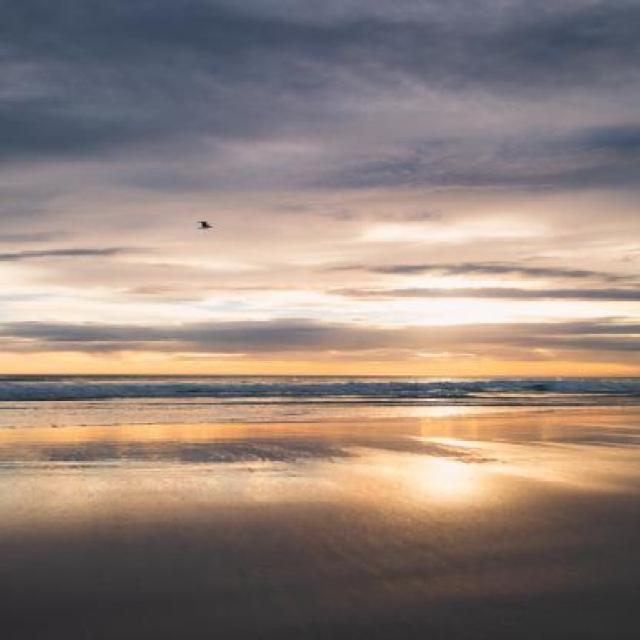bird: (194, 219, 214, 230)
